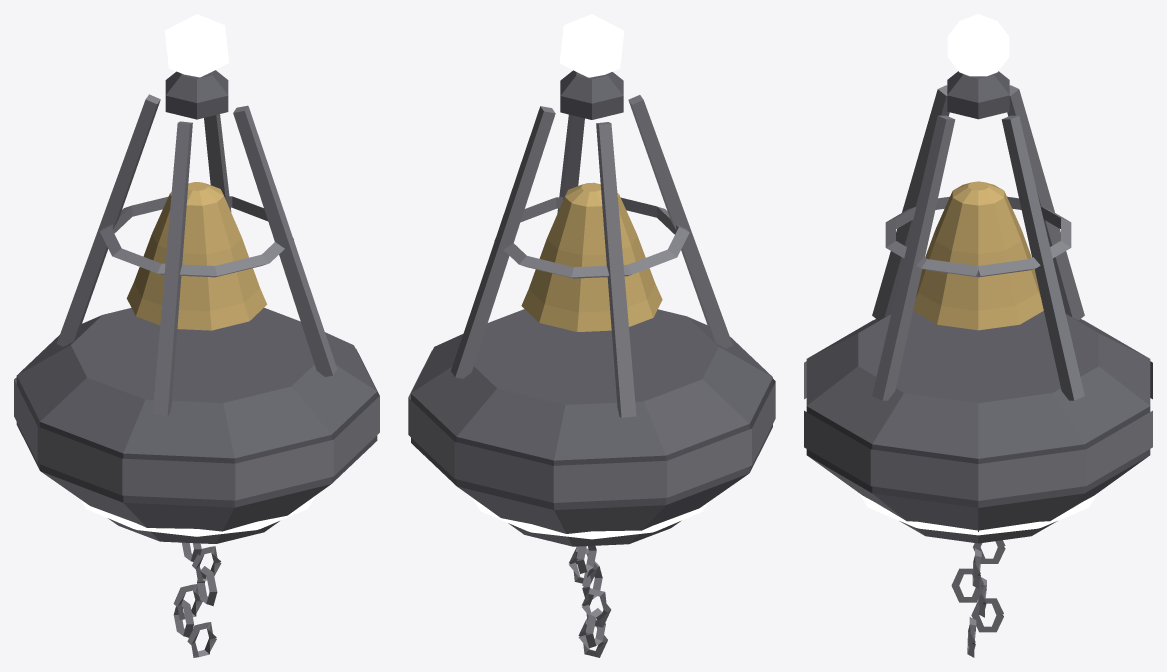
Rendered from engine-buoy.glb.
3 renders of one model, left to right at view 1: azimuth 30°, elevation 25°; view 2: azimuth 150°, elevation 25°; view 3: azimuth 270°, elevation 25°, orthographic.
Parts seen in each view (by area): view 1: buoy_body; view 2: buoy_body; view 3: buoy_body.
Part boxes in pixels (bbox=[...]): buoy_body: bbox=[14, 14, 379, 657]; buoy_body: bbox=[408, 14, 775, 657]; buoy_body: bbox=[804, 14, 1152, 657].
Bounding box in the file's own units: 0.406 × 0.7807 × 0.3861.
